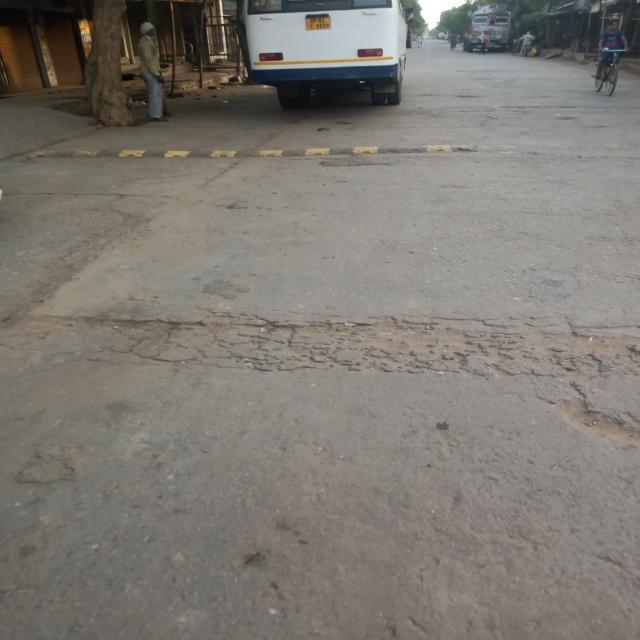Bus: (215, 4, 430, 98)
